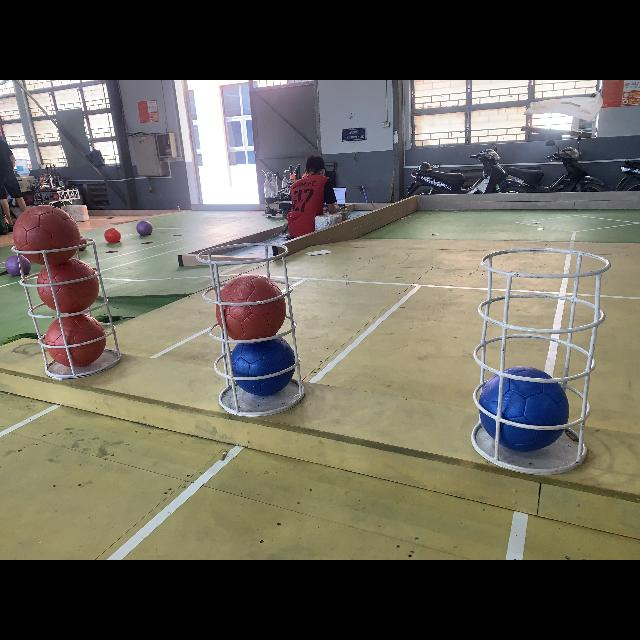B: (477, 366, 571, 450), (230, 337, 296, 398)
R: (213, 276, 285, 340), (13, 204, 79, 264), (36, 258, 100, 312), (44, 315, 106, 367)
